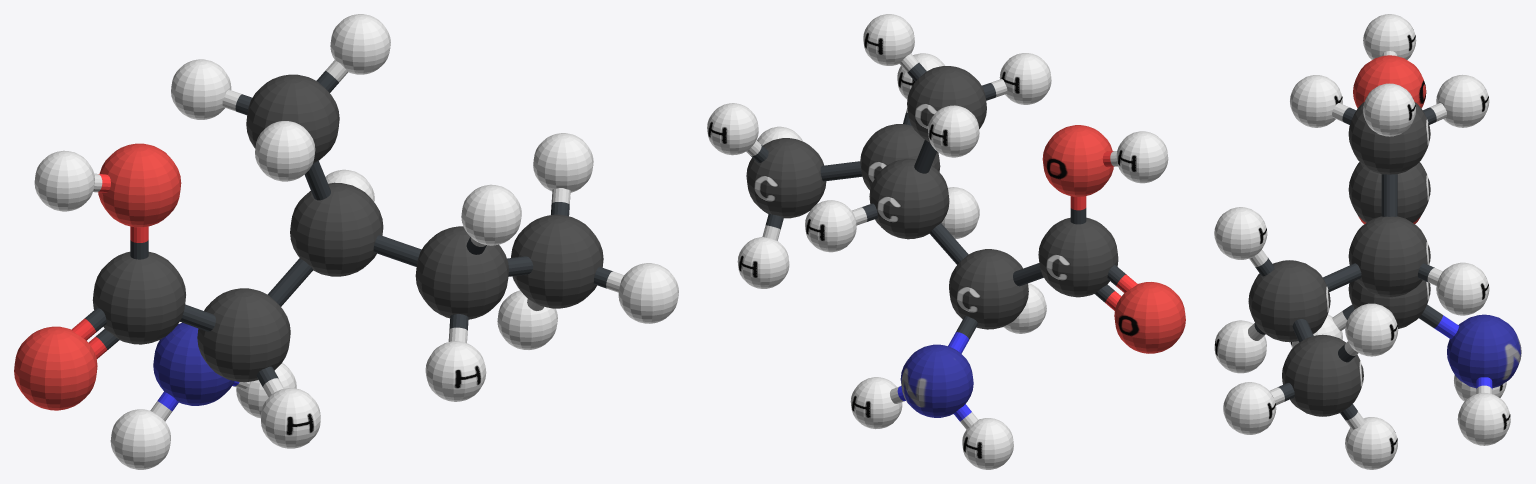
File: Isoleucina.fbx
3 renders of one model, left to right at view 1: azimuth 30°, elevation 25°; view 2: azimuth 150°, elevation 25°; view 3: azimuth 270°, elevation 25°, orthographic. The views are drawn at different scales.
Parts seen in each view (by area): view 1: Shape_Sphere.027; view 2: Shape_Sphere.027; view 3: Shape_Sphere.027.
Boxes of the visible parts, bbox=[...] form: Shape_Sphere.027: bbox=[14, 14, 678, 469]; Shape_Sphere.027: bbox=[707, 14, 1185, 469]; Shape_Sphere.027: bbox=[1214, 14, 1521, 469].
Size of the model in its own units: 21.58 by 16.04 by 11.45.
9 materials, 4 textured.
